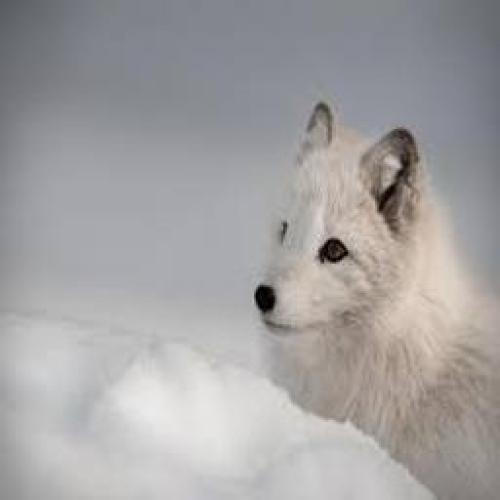arctic_fox-endangered: (245, 97, 500, 500)
